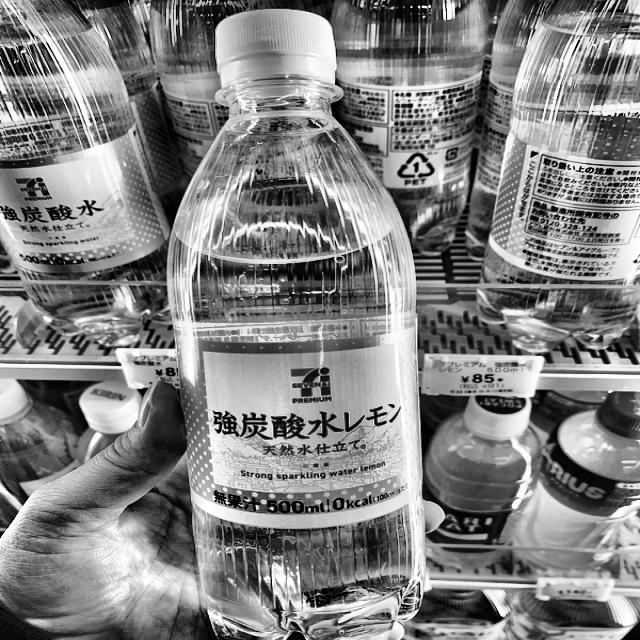waterbottle: (146, 1, 443, 640), (0, 0, 215, 349), (464, 4, 640, 362), (310, 0, 500, 272), (413, 366, 553, 583), (501, 386, 640, 588), (61, 383, 182, 597)
